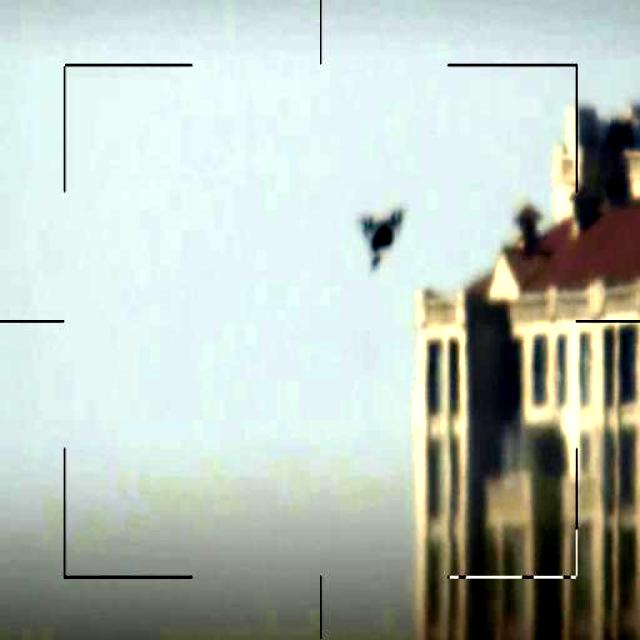bird: (350, 201, 409, 276)
